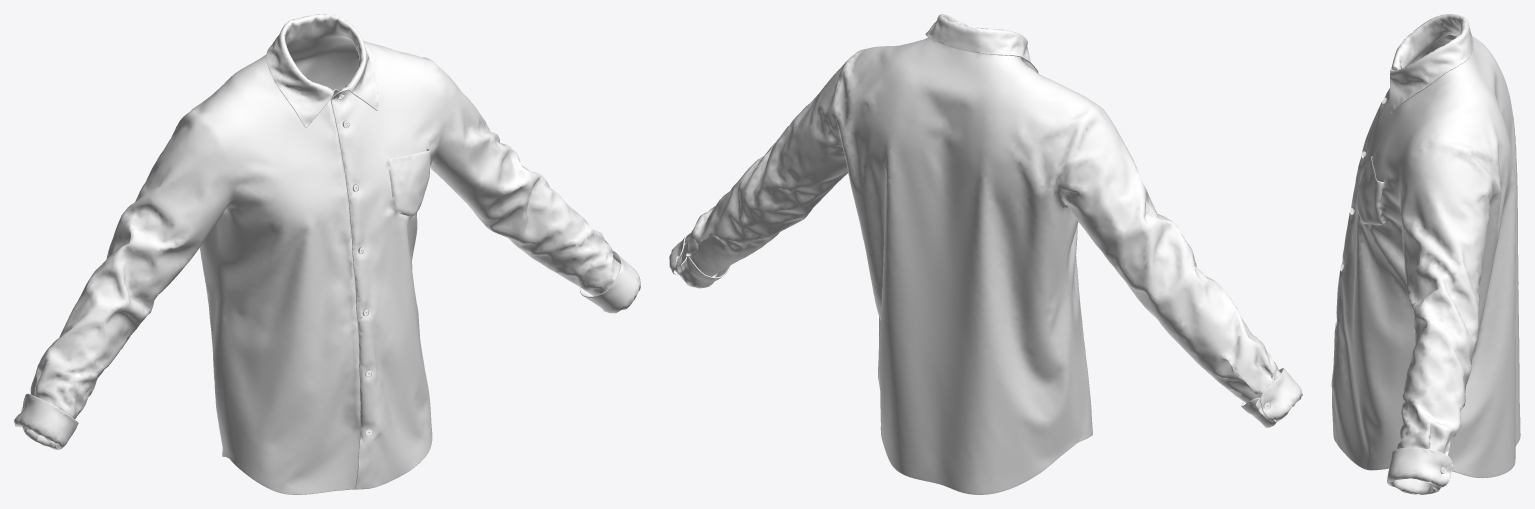
The model's file is 1762308739179-lugaFata.glb.
The picture shows the model from 3 angles, left to right: view 1: azimuth 30°, elevation 25°; view 2: azimuth 150°, elevation 25°; view 3: azimuth 270°, elevation 25°; orthographic projection. The views are drawn at different scales.
Visible parts, largest first — view 1: Shirt_OBJobjcleanermaterialmergergles; view 2: Shirt_OBJobjcleanermaterialmergergles; view 3: Shirt_OBJobjcleanermaterialmergergles.
Boxes of the visible parts, <box> form: Shirt_OBJobjcleanermaterialmergergles: <box>14,14,640,494</box>; Shirt_OBJobjcleanermaterialmergergles: <box>669,14,1302,494</box>; Shirt_OBJobjcleanermaterialmergergles: <box>1331,14,1520,494</box>.
Bounding box in the file's own units: 11.47 × 7.77 × 3.12.
Materials: 9 (2 with a texture image).
